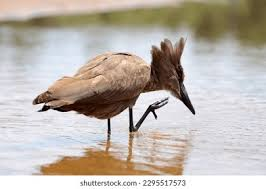Walking: (27, 20, 211, 150)
